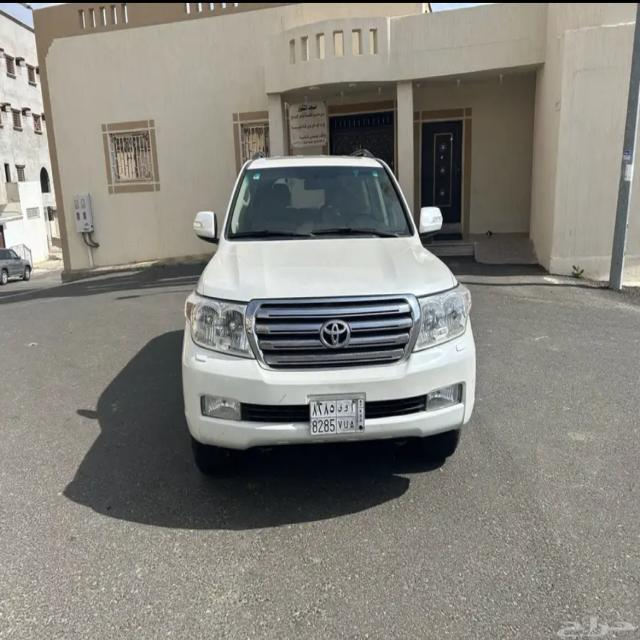license_plate: (310, 401, 365, 434)
